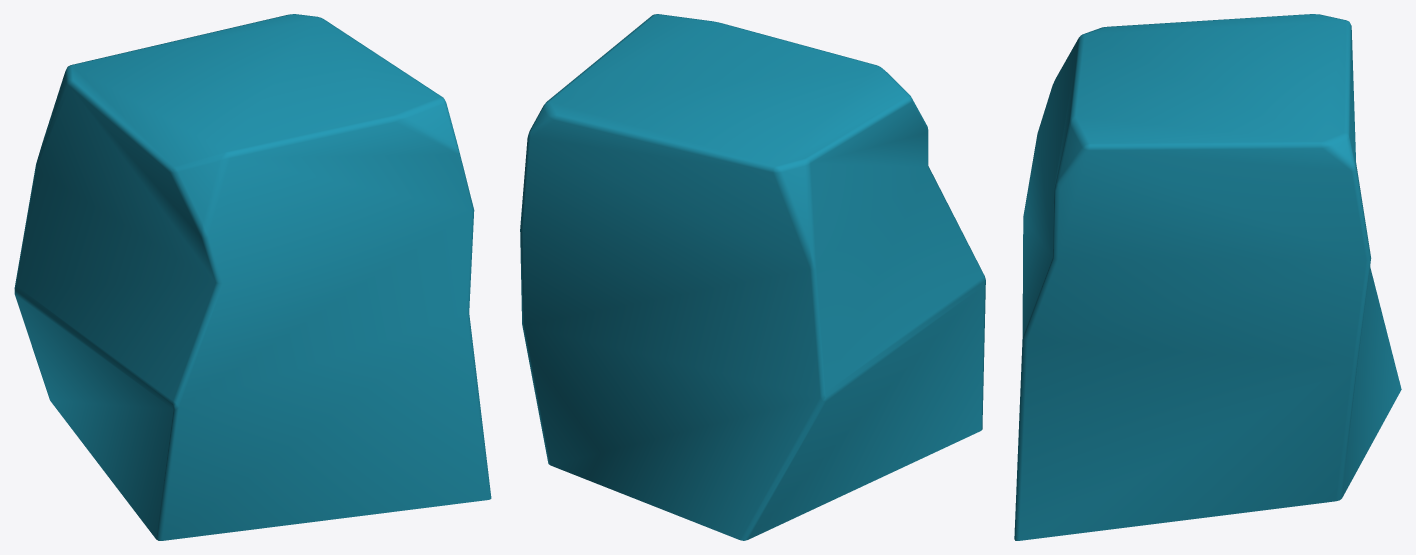
The model's file is Stone1.fbx.
The picture shows the model from 3 angles, left to right: view 1: azimuth 30°, elevation 25°; view 2: azimuth 150°, elevation 25°; view 3: azimuth 270°, elevation 25°; orthographic projection. The views are drawn at different scales.
Parts seen in each view (by area): view 1: Stone1_Lp; view 2: Stone1_Lp; view 3: Stone1_Lp.
Part boxes in pixels (x1,y1,x2,y2): Stone1_Lp: (14, 14, 491, 540); Stone1_Lp: (520, 14, 985, 540); Stone1_Lp: (1014, 14, 1401, 540).
Size of the model in its own units: 52.32 by 59.02 by 53.13.
